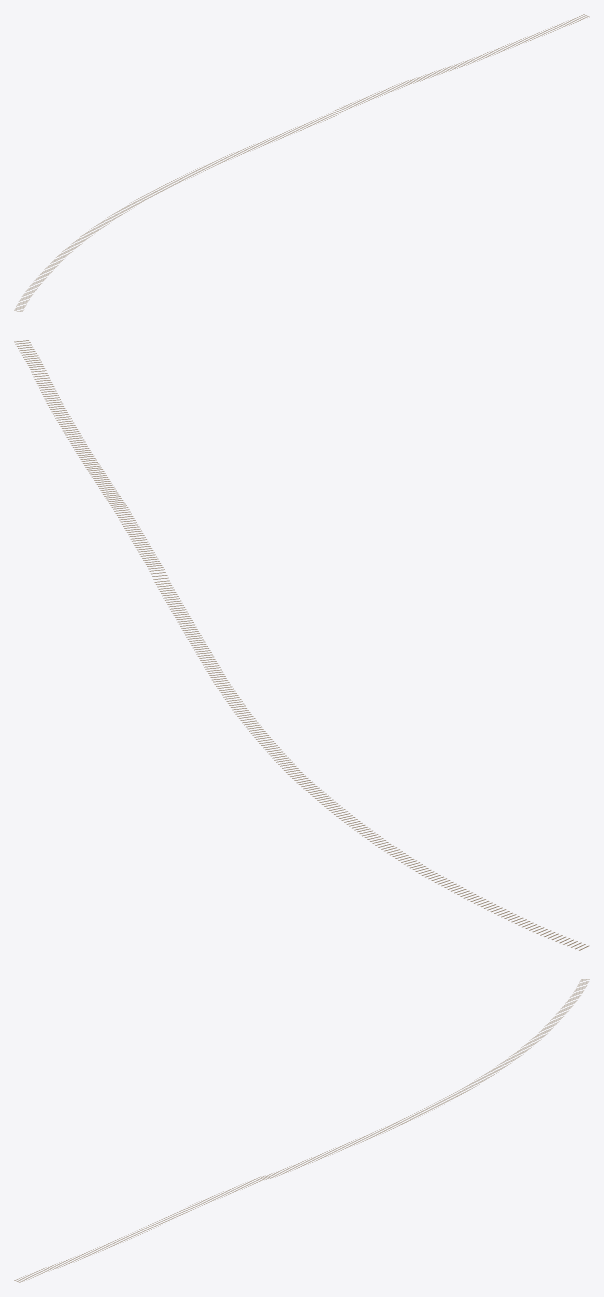
File: c_1621_17824_rail_sleeper.glb
3 views of the same model, one above another, from view 1: azimuth 90°, elevation 25°; view 2: azimuth 150°, elevation 25°; view 3: azimuth 270°, elevation 25° (orthographic). The views are drawn at different scales.
Parts seen in each view (by area): view 1: geometry_0; view 2: geometry_0; view 3: geometry_0.
Part boxes in pixels (box(x1,y1,x2,y2)): geometry_0: box(14, 14, 589, 311); geometry_0: box(14, 340, 589, 950); geometry_0: box(14, 979, 589, 1282).
Bounding box in the file's own units: 186 × 1.53 × 151.
